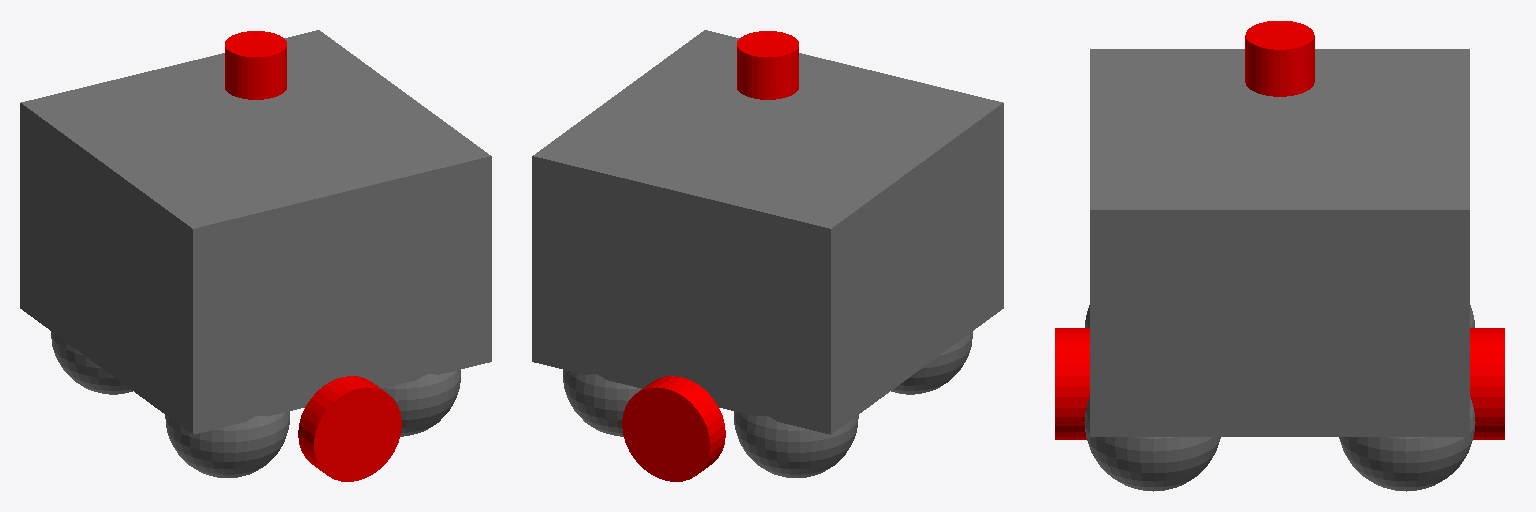
The robot description file, URDF, robot "cube_petit":
<?xml version="1.0" ?>
<robot name="cube_petit" xmlns:xacro="http://ros.org/wiki/xacro">
  <material name="gray">
    <color rgba="0.5 0.5 0.5 2.5"/>
  </material>
  <material name="red">
    <color rgba="1.0 0.0 0.0 2.5"/>
  </material>


  <link name="base_link"/>


  <joint name="body_joint" type="fixed">
    <parent link="base_link"/>
    <child link="body_link"/>
    <origin rpy="0 0 0" xyz="0.0 0 0.125"/>
  </joint>
  <link name="body_link">
    <inertial>
      <origin rpy="0 0 0" xyz="0 0 0"/>
      <mass value="31.20594944"/>
      <inertia ixx="1.79583172" ixy="0.03278618" ixz="0.02535482" iyy="1.55345103" iyz="0.01272625" izz="1.22908514"/>
    </inertial>
    <visual>
      <origin rpy="0 0 0" xyz="0 0 0"/>
      <geometry>
        <box size="0.22 0.22 0.145"/>
      </geometry>
      <material name="gray"/>
    </visual>
    <collision>
      <origin rpy="0 0 0" xyz="0 0 0"/>
      <geometry>
        <box size="0.22 0.22 0.145"/>
      </geometry>
    </collision>
  </link>
  <gazebo reference="body_link">
    <material>Gazebo/Gray</material>
    <mu1 value="0.5"/>
    <kp value="500000"/>
    <kd value="100"/>
  </gazebo>


  <joint name="laser_joint" type="fixed">
    <parent link="body_link"/>
    <child link="pacecat_link"/>
    <origin rpy="0 0 0" xyz="0.0 0 0.1175"/>
  </joint>
  <link name="pacecat_link">
    <inertial>
      <origin rpy="0 0 0" xyz="0 0 0"/>
      <mass value="5.20594944"/>
      <inertia ixx="1.79583172" ixy="0.03278618" ixz="0.02535482" iyy="1.55345103" iyz="0.01272625" izz="1.22908514"/>
    </inertial>
    <visual>
      <origin rpy="0 0 0" xyz="0 0 0"/>
      <geometry>
        <cylinder length="0.03" radius="0.02"/>
      </geometry>
      <material name="red"/>
    </visual>
    <collision>
      <origin rpy="0 0 0" xyz="0 0 0"/>
      <geometry>
        <cylinder length="0.03" radius="0.02"/>
      </geometry>
    </collision>
  </link>
  <gazebo reference="pacecat_link">
    <material>Gazebo/Red</material>
    <mu1 value="0.5"/>
    <kp value="500000"/>
    <kd value="100"/>
  </gazebo>

  <joint name="left_wheel_joint" type="continuous">
    <origin rpy="0 0 0" xyz="0.0 0.12 -0.09"/>
    <parent link="body_link"/>
    <child link="left_wheel_link"/>
    <axis xyz="0 1 0"/>
  </joint>
  <transmission name="left_wheel_trans" type="SimpleTransmission">
    <type>transmission_interface/SimpleTransmission</type>
    <actuator name="left_wheel_motor">
      <mechanicalReduction>1</mechanicalReduction>
    </actuator>
    <joint name="left_wheel_joint">
      <hardwareInterface>hardware_interface/VelocityJointInterface</hardwareInterface>
    </joint>
  </transmission>
  <link name="left_wheel_link">
    <inertial>
      <origin rpy="0 0 0" xyz="0 0 0"/>
      <mass value="3.16354494"/>
      <inertia ixx="0.02296002" ixy="0.00000000" ixz="0.00000000" iyy="0.04452360" iyz="-0.00000001" izz="0.02296002"/>
    </inertial>
    <visual>
      <origin rpy="1.57079632679 0 0" xyz="0 0 0"/>
      <geometry>
        <cylinder length="0.02" radius="0.0325"/>
      </geometry>
      <material name="red"/>
    </visual>
    <collision>
      <origin rpy="1.57079632679 0 0" xyz="0 0 0"/>
      <geometry>
        <cylinder length="0.02" radius="0325"/>
      </geometry>
    </collision>
  </link>
  <gazebo reference="left_wheel_link">
    <material>Gazebo/Red</material>
    <mu1 value="2.5"/>
    <!-- <mu2 value="2.5" /> -->
    <kp value="500000"/>
    <kd value="100"/>
  </gazebo>


  <joint name="right_wheel_joint" type="continuous">
    <origin rpy="0 0 0" xyz="0.0 -0.12 -0.09"/>
    <parent link="body_link"/>
    <child link="right_wheel_link"/>
    <axis xyz="0 1 0"/>
  </joint>
  <transmission name="right_wheel_trans" type="SimpleTransmission">
    <type>transmission_interface/SimpleTransmission</type>
    <actuator name="right_wheel_motor">
      <mechanicalReduction>1</mechanicalReduction>
    </actuator>
    <joint name="right_wheel_joint">
      <hardwareInterface>hardware_interface/VelocityJointInterface</hardwareInterface>
    </joint>
  </transmission>
  <link name="right_wheel_link">
    <inertial>
      <origin rpy="0 0 0" xyz="0 0 0"/>
      <mass value="3.16354494"/>
      <inertia ixx="0.02296002" ixy="0.00000000" ixz="0.00000000" iyy="0.04452360" iyz="-0.00000001" izz="0.02296002"/>
    </inertial>
    <visual>
      <origin rpy="1.57079632679 0 0" xyz="0 0 0"/>
      <geometry>
        <cylinder length="0.02" radius="0.0325"/>
      </geometry>
      <material name="red"/>
    </visual>
    <collision>
      <origin rpy="1.57079632679 0 0" xyz="0 0 0"/>
      <geometry>
        <cylinder length="0.02" radius="0.0325"/>
      </geometry>
    </collision>
  </link>
  <gazebo reference="right_wheel_link">
    <material>Gazebo/Red</material>
    <mu1 value="2.5"/>
    <!-- <mu2 value="2.5" /> -->
    <kp value="500000"/>
    <kd value="100"/>
  </gazebo>


  <joint name="ball_joint4" type="fixed">
    <parent link="base_link"/>
    <child link="ball_link4"/>
    <origin rpy="0 0 0" xyz="-0.063 0.073 0.04"/>
  </joint>
  <link name="ball_link4">
    <inertial>
      <origin rpy="0 0 0" xyz="0 0 0"/>
      <mass value="1.0"/>
      <inertia ixx="0.001" ixy="0.0" ixz="0.0" iyy="0.001" iyz="0.0" izz="0.001"/>
    </inertial>
    <visual>
      <origin rpy="0 0 0" xyz="0 0 0"/>
      <geometry>
        <sphere radius="0.04"/>
      </geometry>
      <material name="gray"/>
    </visual>
    <collision>
      <origin rpy="0 0 0" xyz="0 0 0"/>
      <geometry>
        <sphere radius="0.04"/>
      </geometry>
      <material name="gray"/>
    </collision>
  </link>
  <gazebo reference="ball_link4">
    <material>Gazebo/Gray</material>
    <mu1 value="0.01"/>
    <kp value="2000000"/>
    <kd value="100"/>
    <!-- <mu2 value="0.5" /> -->
  </gazebo>

  <joint name="ball_joint1" type="fixed">
    <parent link="base_link"/>
    <child link="ball_link1"/>
    <origin rpy="0 0 0" xyz="0.063 0.073 0.04"/>
  </joint>
  <link name="ball_link1">
    <inertial>
      <origin rpy="0 0 0" xyz="0 0 0"/>
      <mass value="1.0"/>
      <inertia ixx="0.001" ixy="0.0" ixz="0.0" iyy="0.001" iyz="0.0" izz="0.001"/>
    </inertial>
    <visual>
      <origin rpy="0 0 0" xyz="0 0 0"/>
      <geometry>
        <sphere radius="0.04"/>
      </geometry>
      <material name="gray"/>
    </visual>
    <collision>
      <origin rpy="0 0 0" xyz="0 0 0"/>
      <geometry>
        <sphere radius="0.04"/>
      </geometry>
      <material name="gray"/>
    </collision>
  </link>
  <gazebo reference="ball_link1">
    <material>Gazebo/Gray</material>
    <mu1 value="0.01"/>
    <kp value="2000000"/>
    <kd value="100"/>
    <!-- <mu2 value="0.5" /> -->
  </gazebo>

    <joint name="ball_joint2" type="fixed">
    <parent link="base_link"/>
    <child link="ball_link2"/>
    <origin rpy="0 0 0" xyz="0.063 -0.073 0.04"/>
  </joint>
  <link name="ball_link2">
    <inertial>
      <origin rpy="0 0 0" xyz="0 0 0"/>
      <mass value="1.0"/>
      <inertia ixx="0.001" ixy="0.0" ixz="0.0" iyy="0.001" iyz="0.0" izz="0.001"/>
    </inertial>
    <visual>
      <origin rpy="0 0 0" xyz="0 0 0"/>
      <geometry>
        <sphere radius="0.04"/>
      </geometry>
      <material name="gray"/>
    </visual>
    <collision>
      <origin rpy="0 0 0" xyz="0 0 0"/>
      <geometry>
        <sphere radius="0.04"/>
      </geometry>
      <material name="gray"/>
    </collision>
  </link>
  <gazebo reference="ball_link2">
    <material>Gazebo/Gray</material>
    <mu1 value="0.01"/>
    <kp value="2000000"/>
    <kd value="100"/>
    <!-- <mu2 value="0.5" /> -->
  </gazebo>

    <joint name="ball_joint3" type="fixed">
    <parent link="base_link"/>
    <child link="ball_link3"/>
    <origin rpy="0 0 0" xyz="-0.063 -0.073 0.04"/>
  </joint>
  <link name="ball_link3">
    <inertial>
      <origin rpy="0 0 0" xyz="0 0 0"/>
      <mass value="1.0"/>
      <inertia ixx="0.001" ixy="0.0" ixz="0.0" iyy="0.001" iyz="0.0" izz="0.001"/>
    </inertial>
    <visual>
      <origin rpy="0 0 0" xyz="0 0 0"/>
      <geometry>
        <sphere radius="0.04"/>
      </geometry>
      <material name="gray"/>
    </visual>
    <collision>
      <origin rpy="0 0 0" xyz="0 0 0"/>
      <geometry>
        <sphere radius="0.04"/>
      </geometry>
      <material name="gray"/>
    </collision>
  </link>
  <gazebo reference="ball_link3">
    <material>Gazebo/Gray</material>
    <mu1 value="0.01"/>
    <kp value="2000000"/>
    <kd value="100"/>
    <!-- <mu2 value="0.5" /> -->
  </gazebo>


  <gazebo>
    <plugin filename="libgazebo_ros_control.so" name="gazebo_ros_control">
      <robotNamespace>/cube_petit</robotNamespace>
      <legacyModeNS>true</legacyModeNS>
    </plugin>
  </gazebo>
</robot>

--- What the picture shows (computed from the rendered views, not written in the file) ---
Views: 3 orthographic renders of the robot side by side, from view 1: azimuth 30°, elevation 25°; view 2: azimuth 150°, elevation 25°; view 3: azimuth 270°, elevation 25°.
Model cube_petit with 9 links and 8 joints (2 continuous, 6 fixed), rooted at base_link, posed all joints at 0.
Visible links, largest first — view 1: body_link, right_wheel_link, ball_link3, pacecat_link, ball_link2, ball_link4; view 2: body_link, left_wheel_link, ball_link4, pacecat_link, ball_link1, ball_link3; view 3: body_link, ball_link1, ball_link2, pacecat_link, left_wheel_link, right_wheel_link.
Link boxes in pixels (x1,y1,x2,y2): body_link: (20,30,491,434); right_wheel_link: (298,376,401,481); ball_link3: (165,411,289,477); pacecat_link: (225,31,286,99); ball_link2: (382,370,460,436); ball_link4: (51,331,132,394); body_link: (532,30,1003,434); left_wheel_link: (622,376,725,481); ball_link4: (734,411,858,477); pacecat_link: (737,31,798,99); ball_link1: (563,370,641,436); ball_link3: (891,331,972,394); body_link: (1090,49,1469,436); ball_link1: (1339,397,1475,491); ball_link2: (1084,397,1220,491); pacecat_link: (1245,21,1314,96); left_wheel_link: (1470,328,1504,439); right_wheel_link: (1055,328,1089,439).
Bounding box of the posed robot: 0.22 × 0.26 × 0.2575 m (x, y, z).
Geometry: primitives only (box / cylinder / sphere), no mesh files.